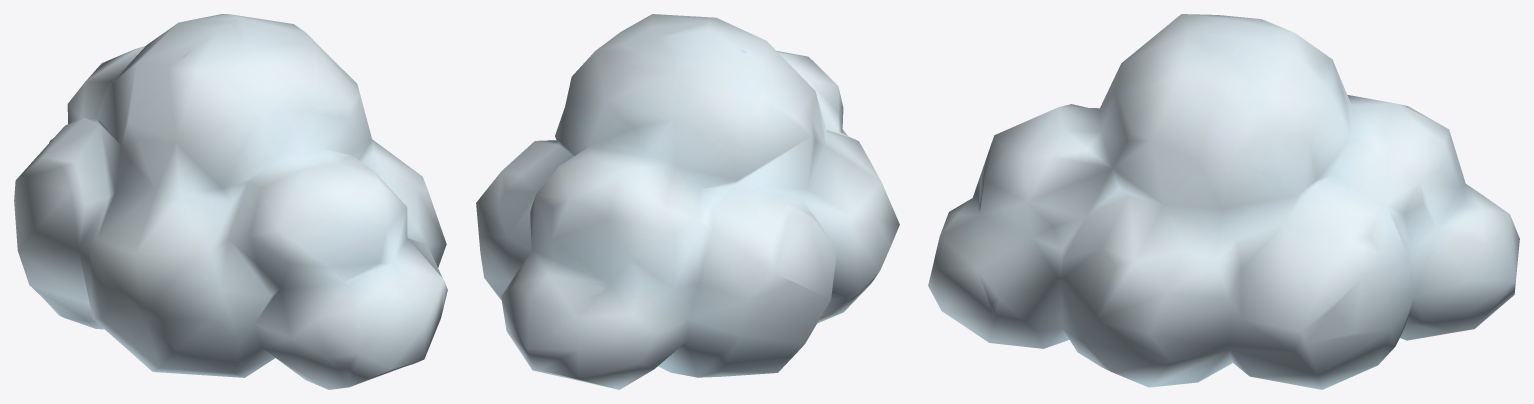
Rendered from cloud.glb.
The picture shows the model from 3 angles, left to right: view 1: azimuth 30°, elevation 25°; view 2: azimuth 150°, elevation 25°; view 3: azimuth 270°, elevation 25°; orthographic projection. The views are drawn at different scales.
Parts seen in each view (by area): view 1: tripo_node_9c75aab6-488d-406c-8ded-8ac67200a17d; view 2: tripo_node_9c75aab6-488d-406c-8ded-8ac67200a17d; view 3: tripo_node_9c75aab6-488d-406c-8ded-8ac67200a17d.
Boxes of the visible parts, x1=… form: tripo_node_9c75aab6-488d-406c-8ded-8ac67200a17d: x1=14, y1=14, x2=447, y2=389; tripo_node_9c75aab6-488d-406c-8ded-8ac67200a17d: x1=476, y1=14, x2=899, y2=389; tripo_node_9c75aab6-488d-406c-8ded-8ac67200a17d: x1=928, y1=14, x2=1519, y2=389.
Bounding box in the file's own units: 0.7244 × 0.5688 × 1.
Materials: 1 (1 with a texture image).
